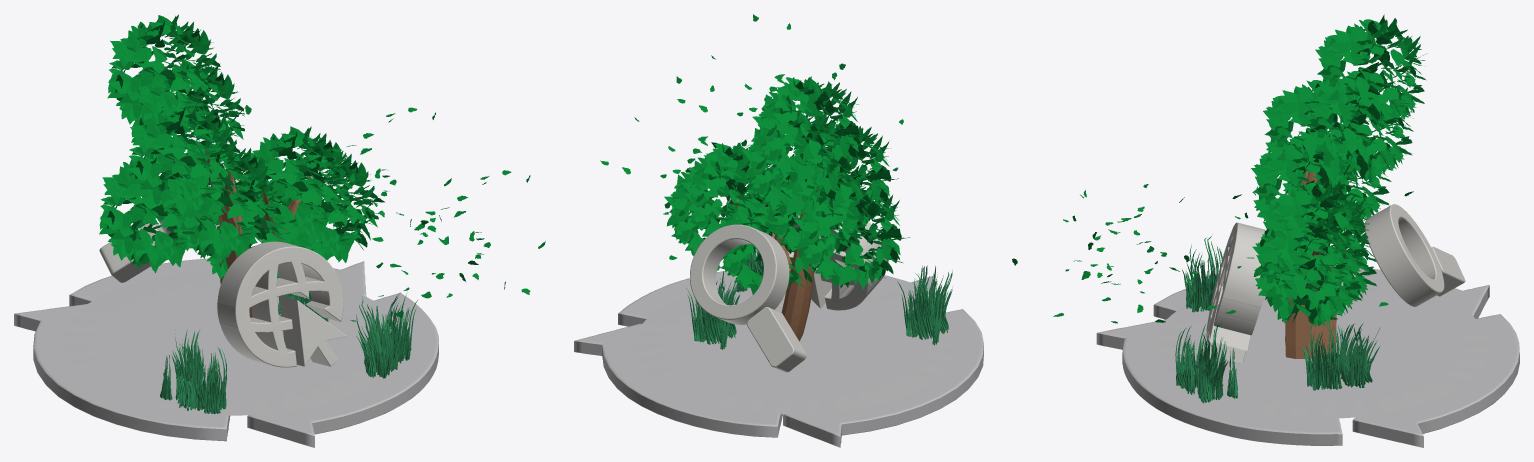
The model's file is backend-transformed.glb.
The picture shows the model from 3 angles, left to right: view 1: azimuth 30°, elevation 25°; view 2: azimuth 150°, elevation 25°; view 3: azimuth 270°, elevation 25°; orthographic projection. The views are drawn at different scales.
Parts seen in each view (by area): view 1: arbre tronc_0, Curve.000_0, Curve_0; view 2: Curve.000_0, arbre tronc_0, Curve_0; view 3: arbre tronc_0, Curve.000_0, Curve_0.
Part boxes in pixels (x1,y1,x2,y2): arbre tronc_0: (99,14,545,413); Curve.000_0: (14,258,438,447); Curve_0: (99,162,346,367); Curve.000_0: (574,271,983,447); arbre tronc_0: (600,14,952,349); Curve_0: (690,215,886,372); arbre tronc_0: (1012,14,1427,403); Curve.000_0: (1096,268,1519,447); Curve_0: (1203,204,1465,364).
Size of the model in its own units: 2.78 by 2.43 by 3.28.
3 materials, 3 textured.
